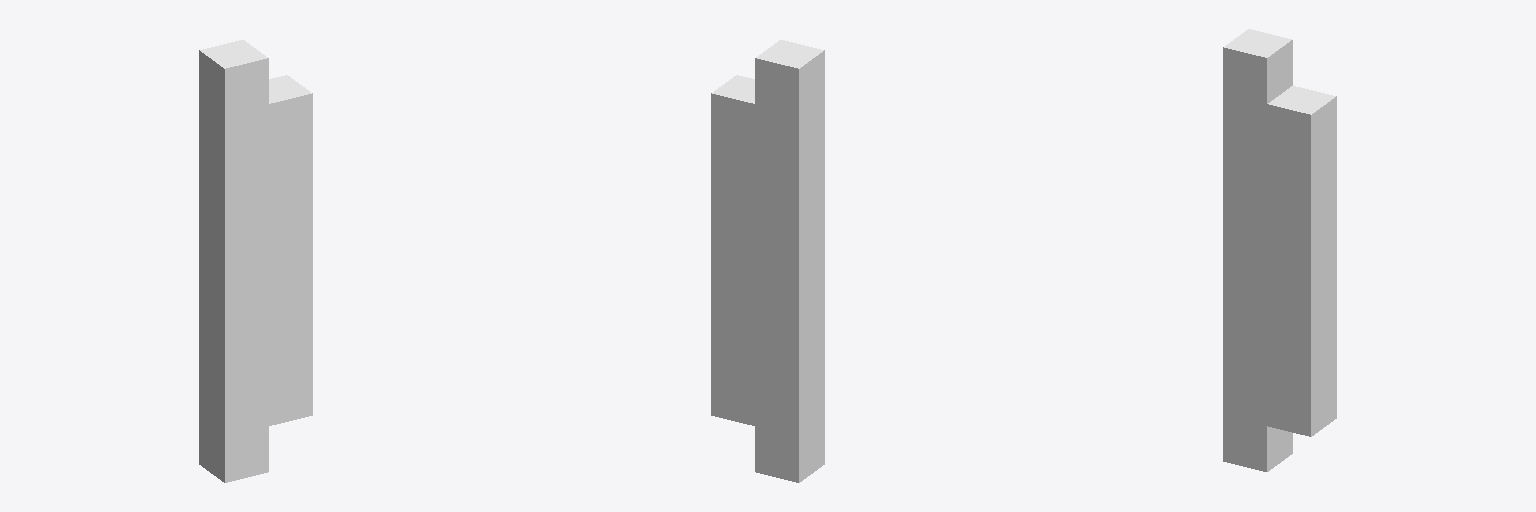
The model's file is ConstructionMaterials-86.obj.
The picture shows the model from 3 angles: view 1: azimuth 30°, elevation 25°; view 2: azimuth 150°, elevation 25°; view 3: azimuth 330°, elevation 25°; orthographic projection.
Visible parts, largest first — view 1: object 1; view 2: object 1; view 3: object 1.
Part boxes in pixels (x1,y1,x2,y2): object 1: (199, 40, 312, 482); object 1: (711, 40, 824, 482); object 1: (1223, 29, 1336, 471).
Bounding box in the file's own units: 0.2 × 0.9 × 0.1.